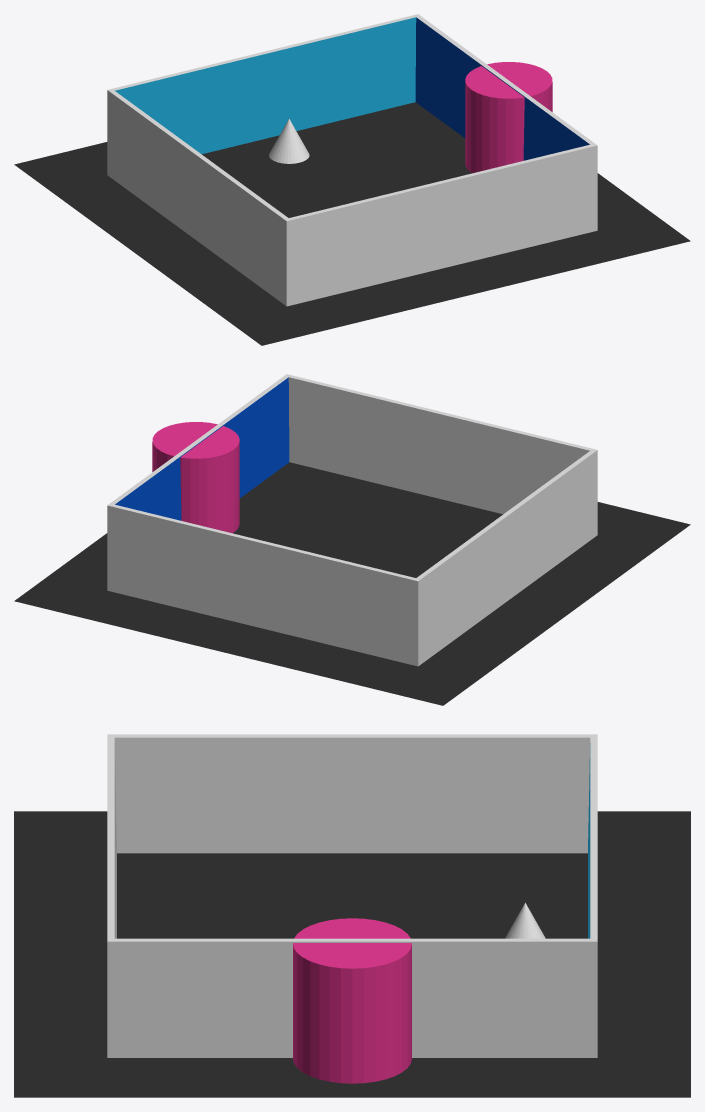
File: world.glb
The picture shows the model from 3 angles, top to bottom: view 1: azimuth 30°, elevation 25°; view 2: azimuth 150°, elevation 25°; view 3: azimuth 270°, elevation 25°; orthographic projection. The views are drawn at different scales.
Visible parts, largest first — view 1: Cube, Floor, Cube.002, Cube.001, Cylinder, Cube.003; view 2: Cube, Floor, Cube.001, Cylinder, Cube.003; view 3: Cube, Floor, Cube.001, Cylinder.
Part boxes in pixels (x1=…): Cube: x1=107, y1=14, x2=597, y2=306; Floor: x1=14, y1=142, x2=690, y2=345; Cube.002: x1=115, y1=17, x2=416, y2=154; Cube.001: x1=202, y1=102, x2=471, y2=217; Cylinder: x1=465, y1=62, x2=552, y2=173; Cube.003: x1=415, y1=17, x2=589, y2=160; Cube: x1=107, y1=374, x2=597, y2=666; Floor: x1=14, y1=502, x2=690, y2=705; Cube.001: x1=233, y1=462, x2=502, y2=577; Cylinder: x1=152, y1=422, x2=239, y2=533; Cube.003: x1=115, y1=377, x2=289, y2=520; Cube: x1=107, y1=734, x2=597, y2=1057; Floor: x1=14, y1=811, x2=690, y2=1097; Cube.001: x1=117, y1=853, x2=587, y2=938; Cylinder: x1=293, y1=918, x2=411, y2=1083.
Bounding box in the file's own units: 100 × 23.72 × 100.
